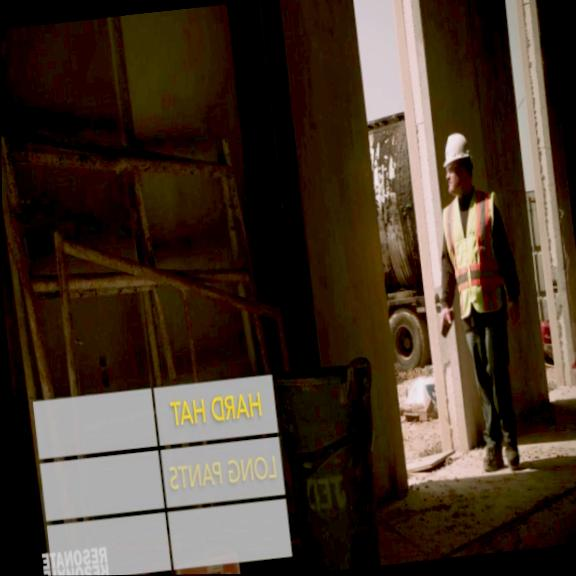safety_vest: (440, 190, 509, 320)
